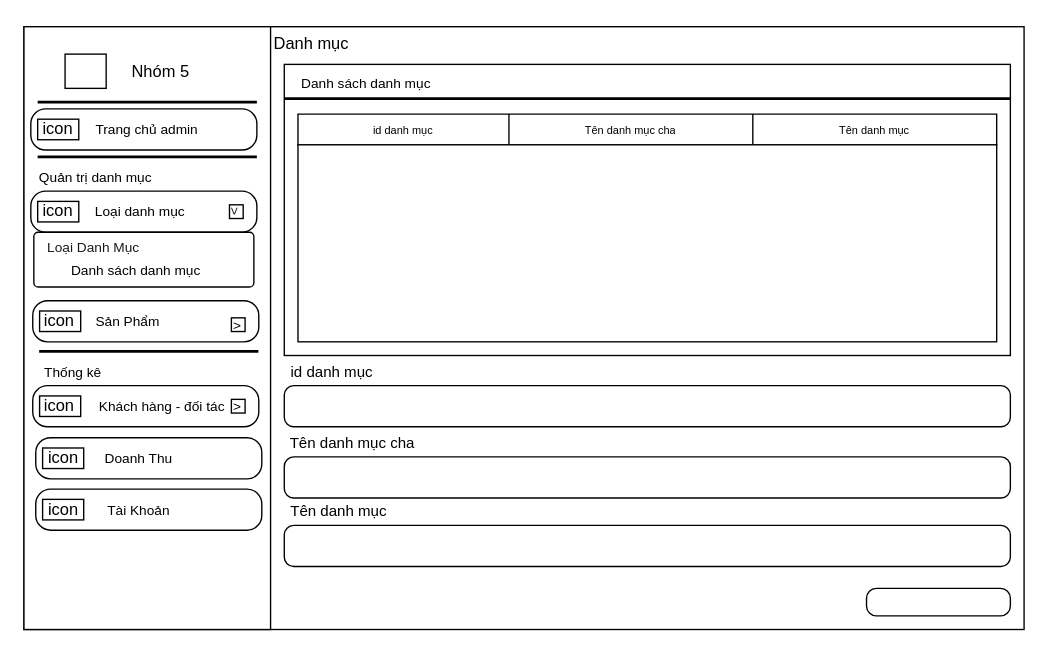
Image size: 1048x653. Some labels were removed from this diagram. Each missing label, with the centre of its shape:
"img" belongs at [85,70].
"ListView" belongs at [647,242].
"Thêm danh mục" belongs at [937,601].
